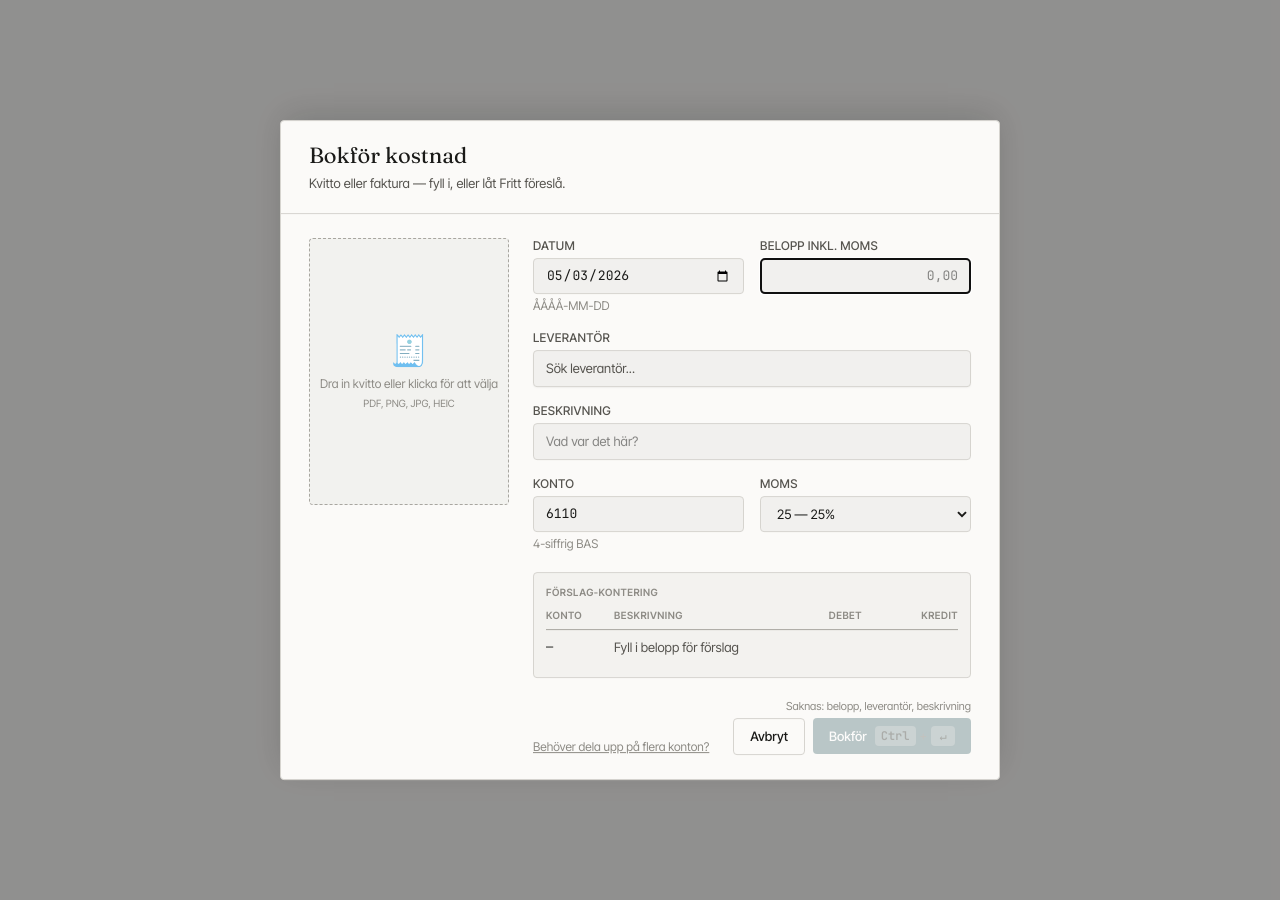
Test: Sprint VS-3 — BokforKostnadSheet › VS-7 receipt-pick visar attached-state med filnamn
The image size is (1280, 900).
Click the button with test id "vardag-kostnad-receipt-pick": click(409, 371) [309,238,509,505]
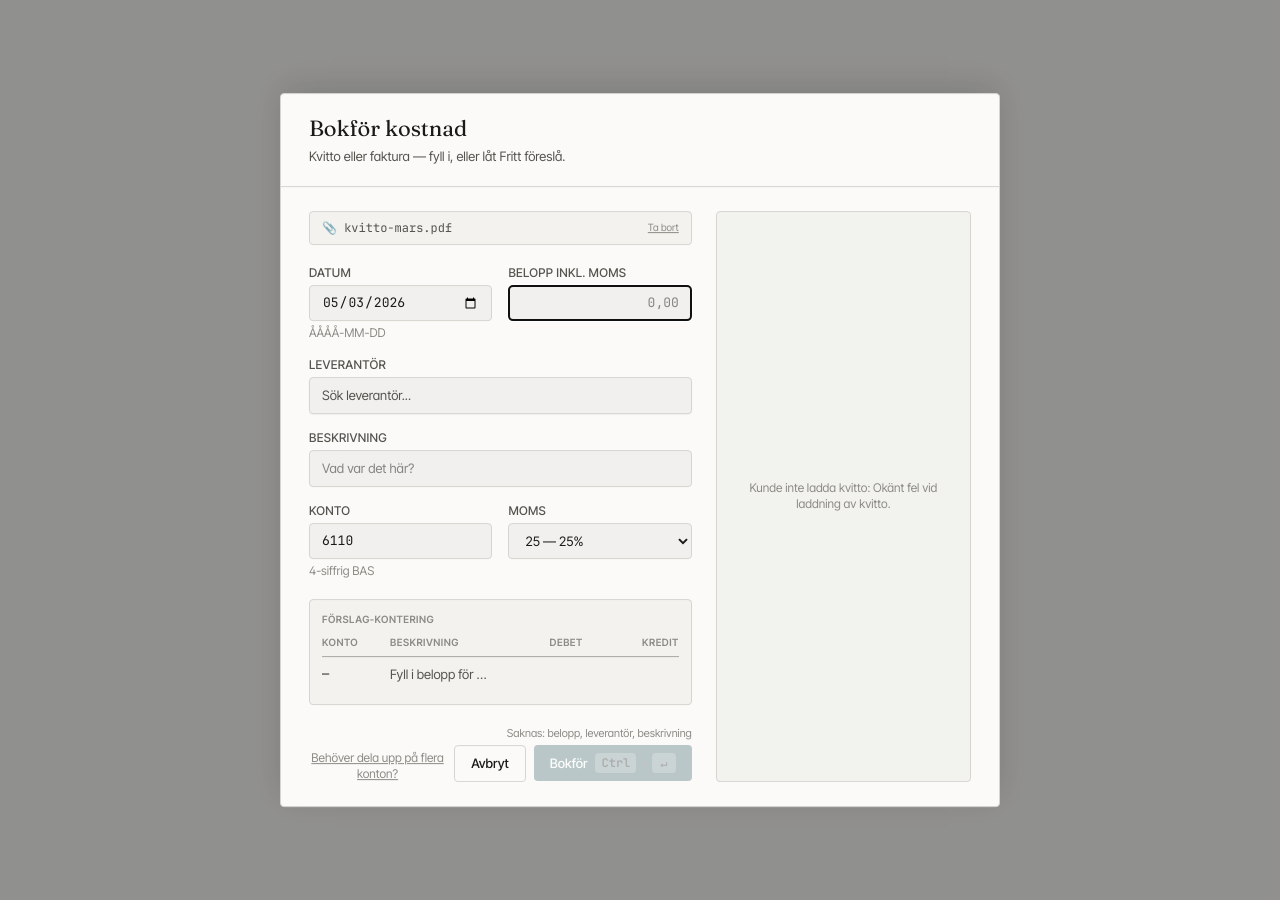
Now the text with test id "vardag-kostnad-receipt-attached" shows "kvitto-mars.pdf", box [344,220,452,236]
